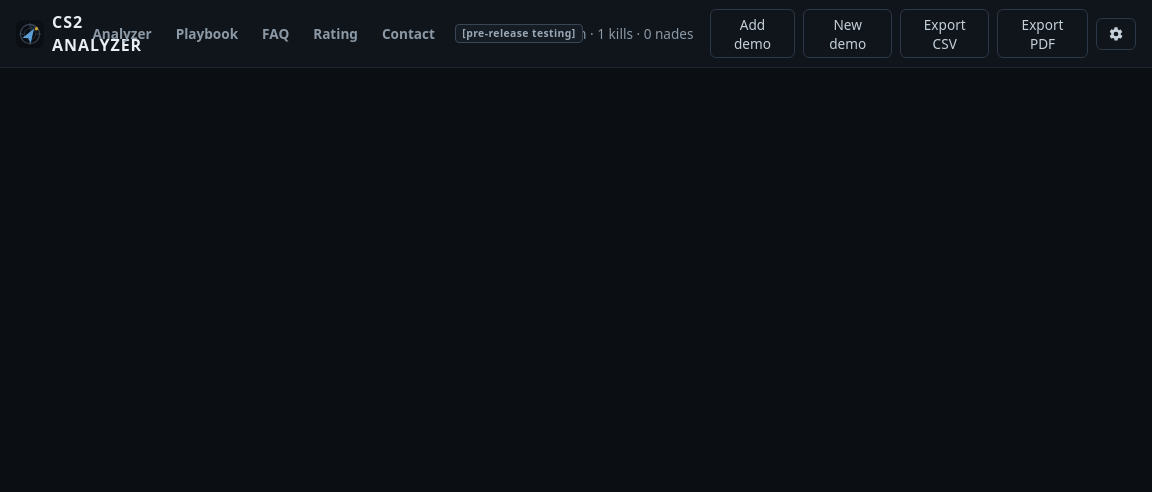
Test case: Header › shows map, file meta, and viewer actions with a loaded replay
expect the text "Mirage · match.dem · 1 kills · 0 nades" is shown: met, box [458,24,694,43]
expect the button "Add demo" is shown: met, box [710,9,795,58]
Click the button named "Settings".
click(1116, 34)  # box [1096,18,1136,50]
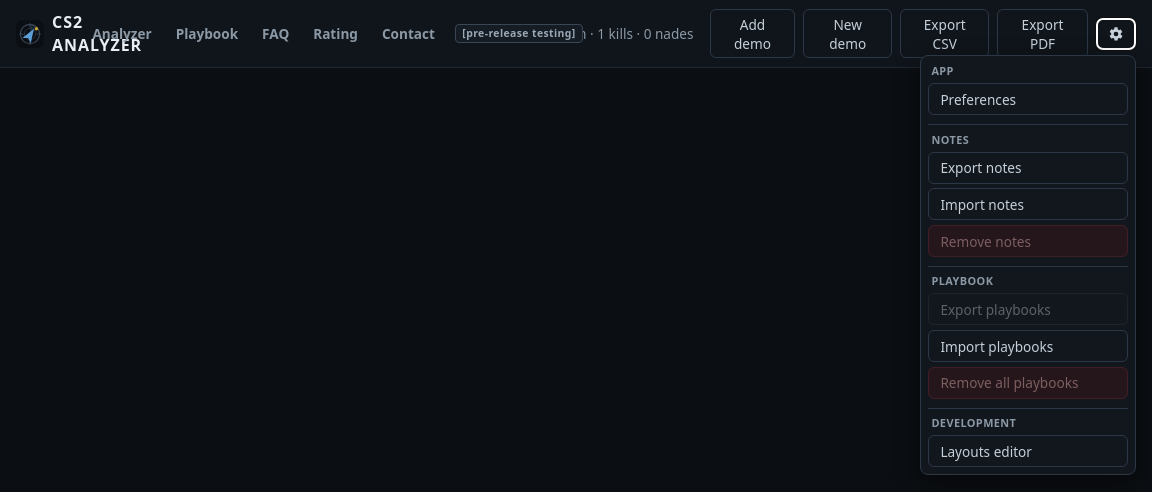
expect the button "Export notes" is enabled: met, box [928,152,1128,184]
expect the button "Import notes" is shown: met, box [928,188,1128,220]
